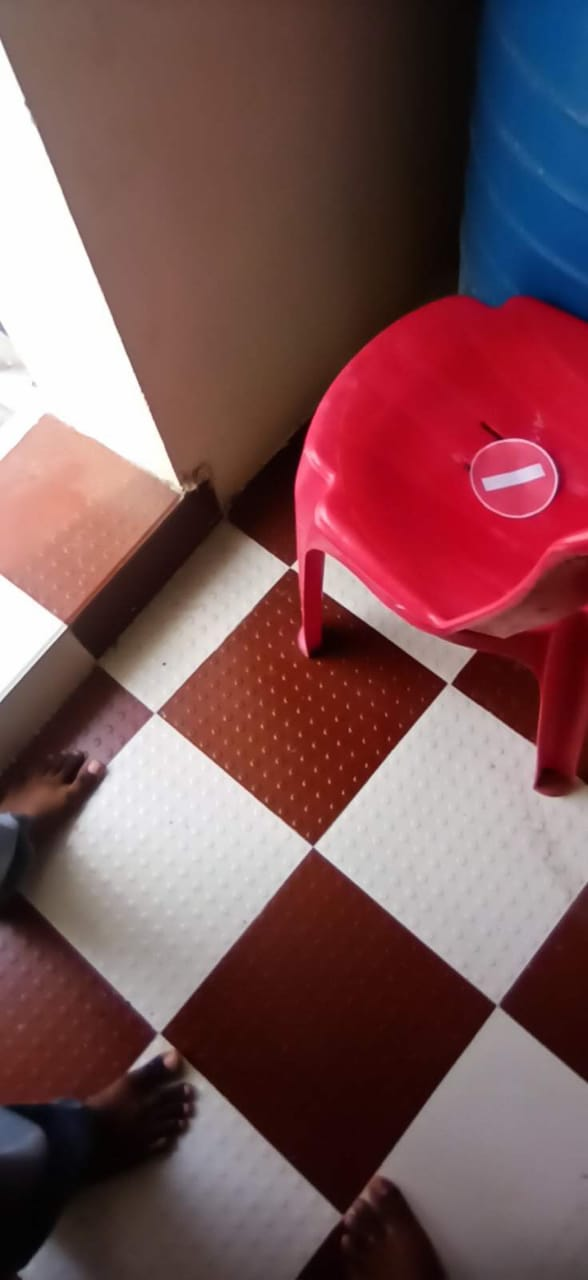NO ENTRY: (473, 426, 561, 521)
